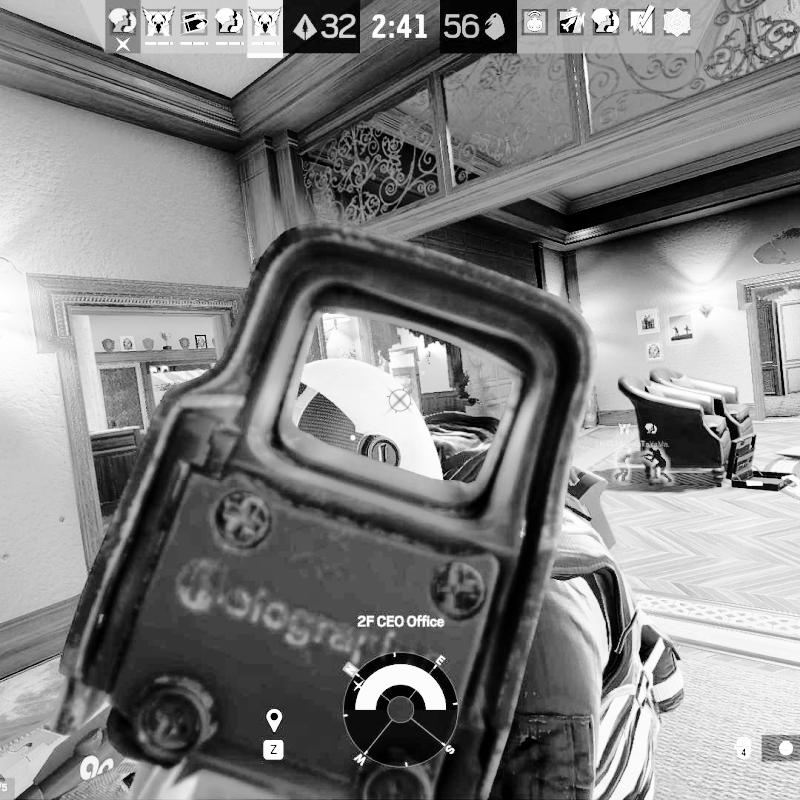Character: (104, 344, 684, 800)
Friend_label: (601, 421, 644, 448), (631, 422, 672, 450)
Head: (286, 352, 440, 481)
